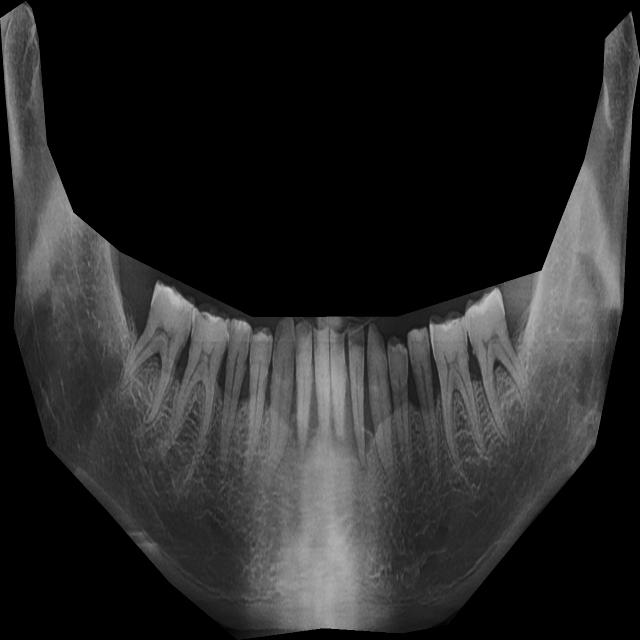mandibula: (0, 1, 640, 640)
